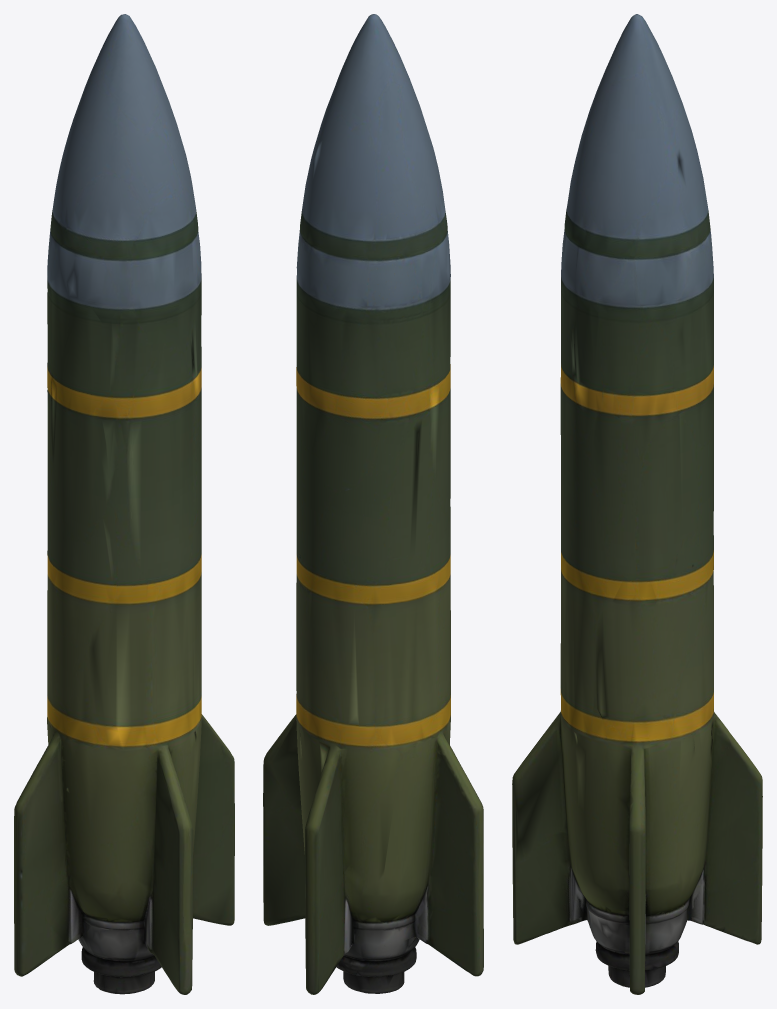
Rendered from missile.glb.
The picture shows the model from 3 angles, left to right: view 1: azimuth 30°, elevation 25°; view 2: azimuth 150°, elevation 25°; view 3: azimuth 270°, elevation 25°; orthographic projection.
Visible parts, largest first — view 1: node_0; view 2: node_0; view 3: node_0.
Part boxes in pixels (x1=…): node_0: x1=14, y1=14, x2=234, y2=994; node_0: x1=263, y1=14, x2=483, y2=994; node_0: x1=512, y1=14, x2=762, y2=994.
Bounding box in the file's own units: 0.2814 × 1.2 × 0.283.
Materials: 1 (1 with a texture image).
